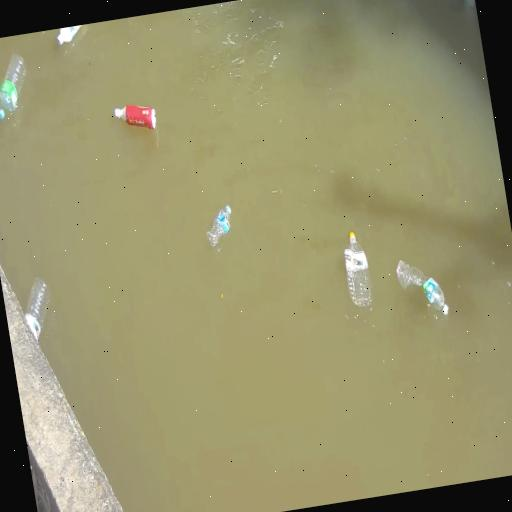plastic: (396, 261, 447, 315), (343, 232, 371, 308), (0, 55, 25, 119), (24, 279, 48, 342), (114, 105, 155, 129), (206, 206, 230, 246), (57, 25, 80, 45)
